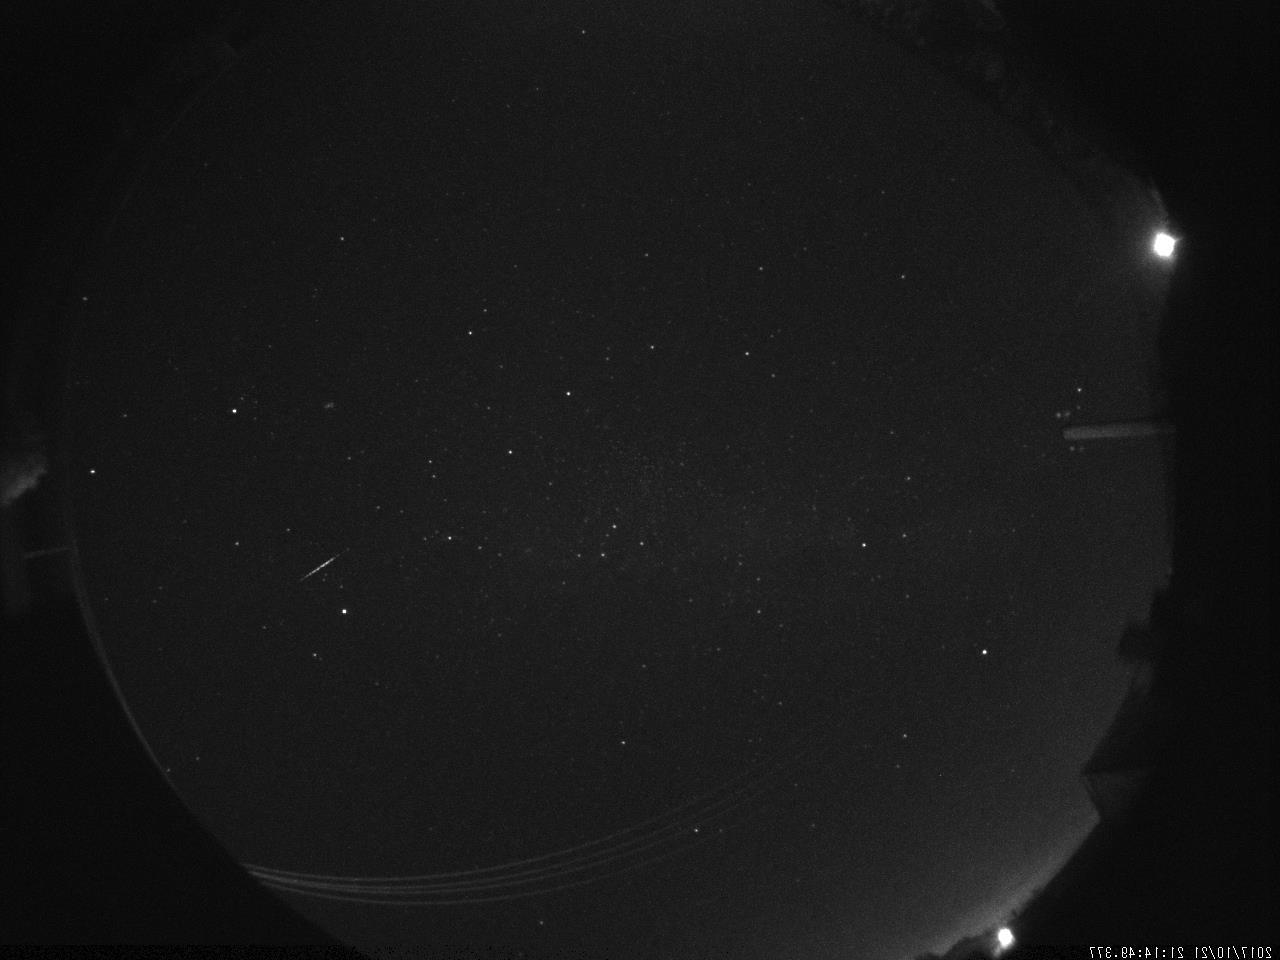meteor: (276, 544, 350, 588)
